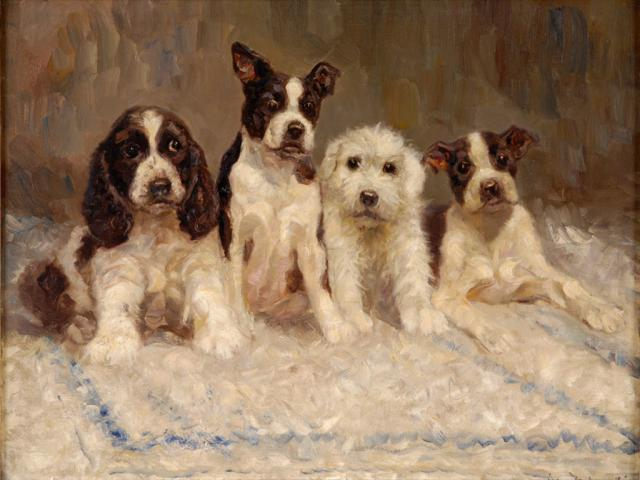Dog: (18, 104, 248, 375), (428, 123, 628, 354), (216, 41, 365, 347), (318, 121, 452, 337)
